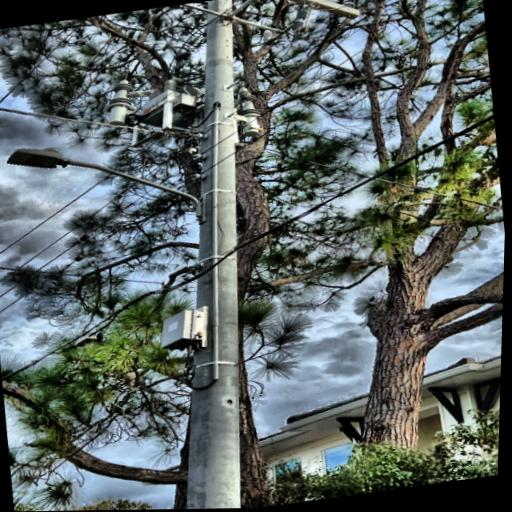pole: (90, 0, 308, 510)
street light: (0, 122, 215, 251)
